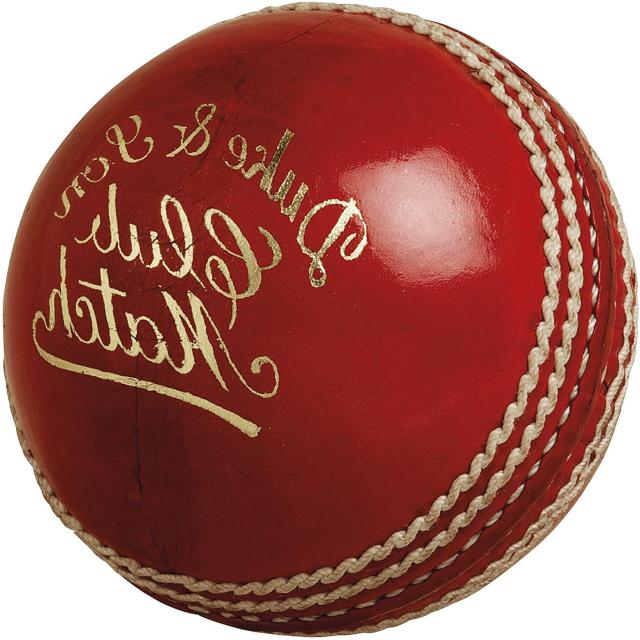ball: (0, 3, 639, 638)
